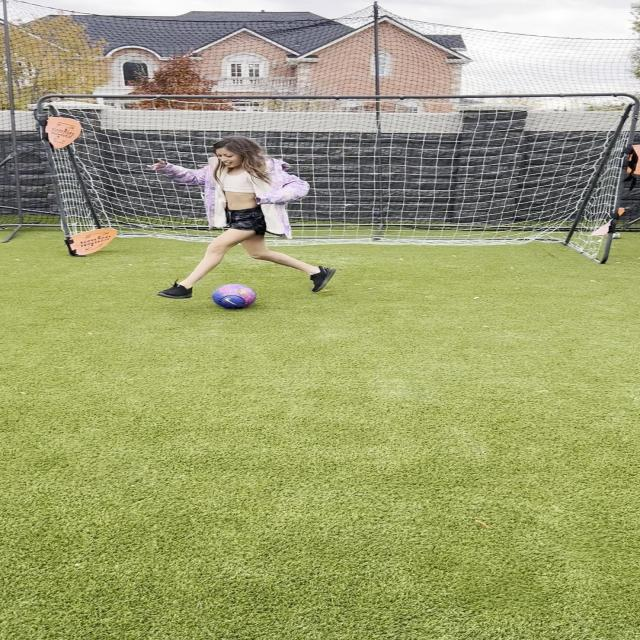Soccer Ball: (213, 284, 256, 310)
